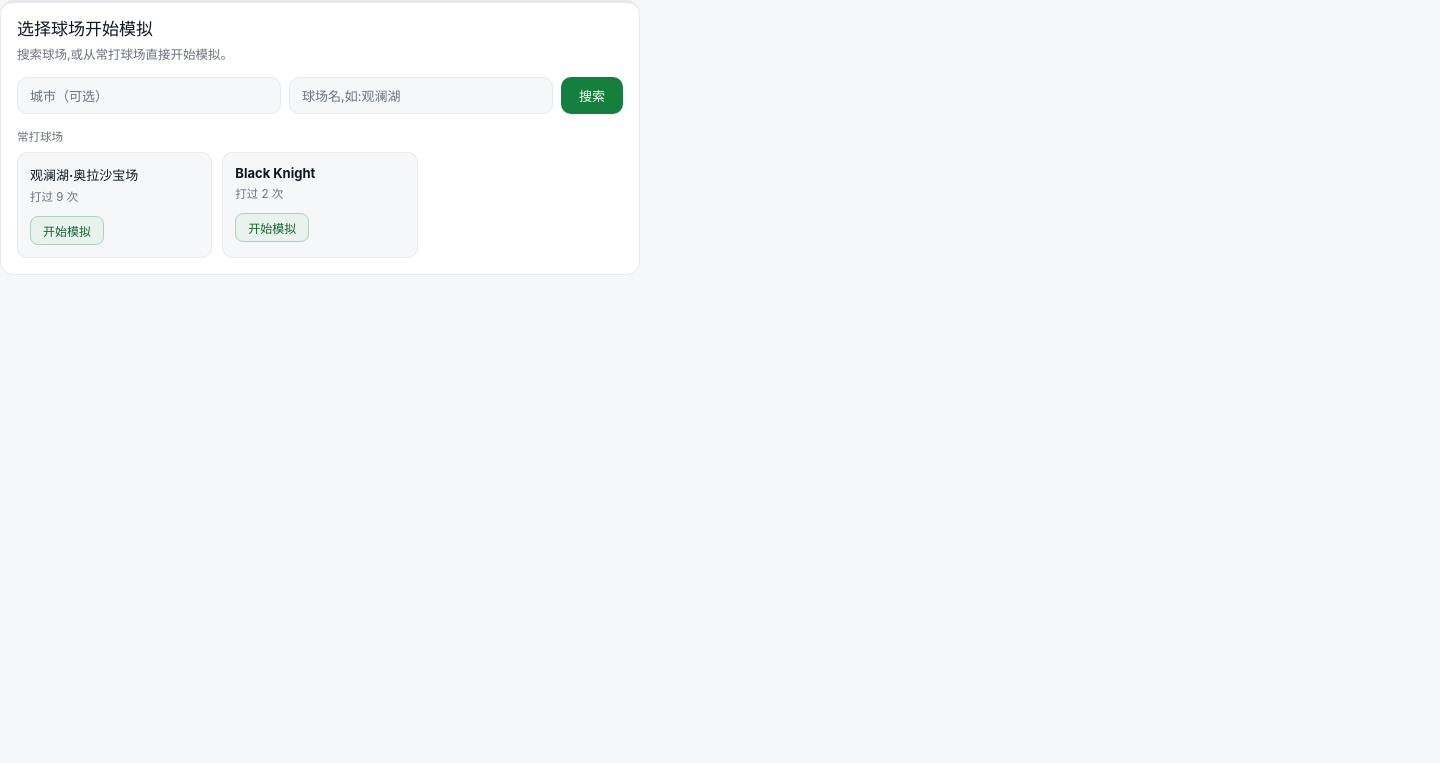
Test: LiveSandbox ball + situation readout › reconstructs a CourseView-only projection instead of degrading to a no-map form
Click the button with aria-label "开始模拟 观澜湖·奥拉沙宝场" at x=67, y=230, box [30, 216, 104, 245]
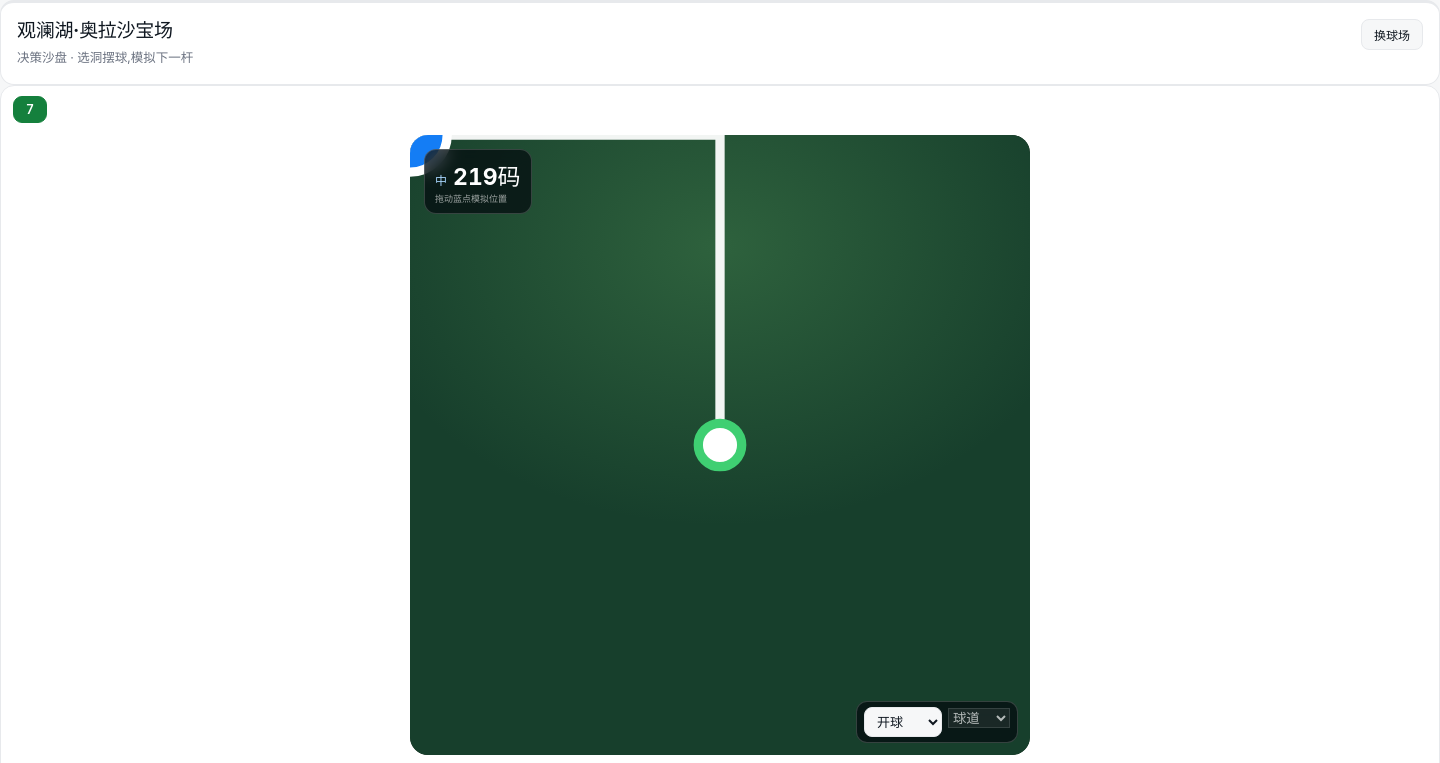
Expected: the element named "选洞" is shown, [13, 96, 47, 122]
Expected: the icon with class "live-sandbox-canvas" is shown, [410, 134, 1030, 754]
